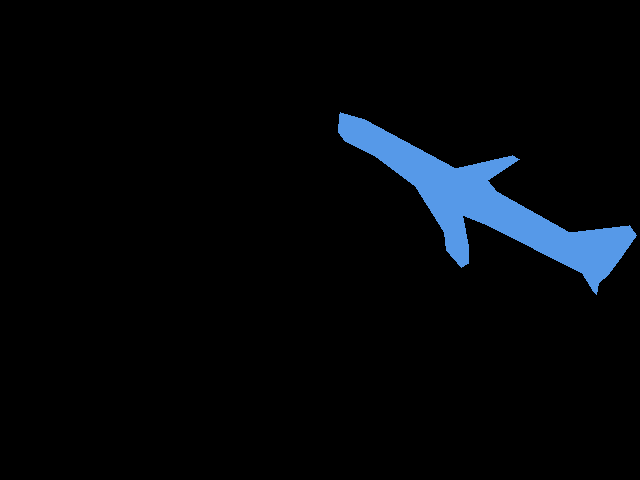Airplane: (338, 112, 636, 295)
